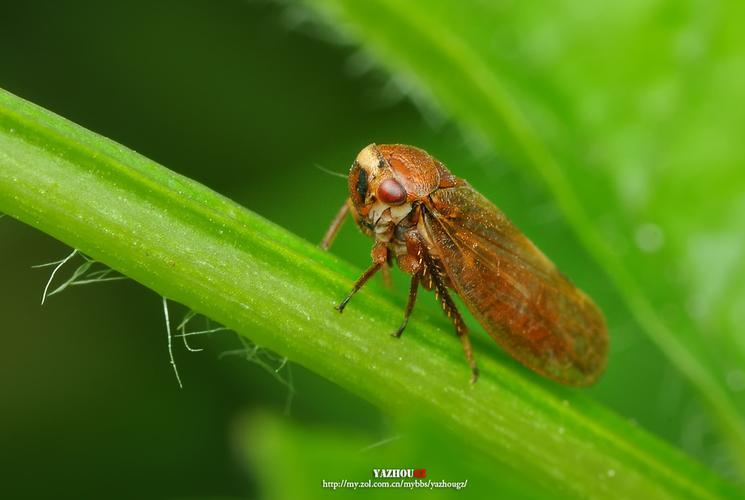Cicadellidae: (320, 142, 610, 387)
